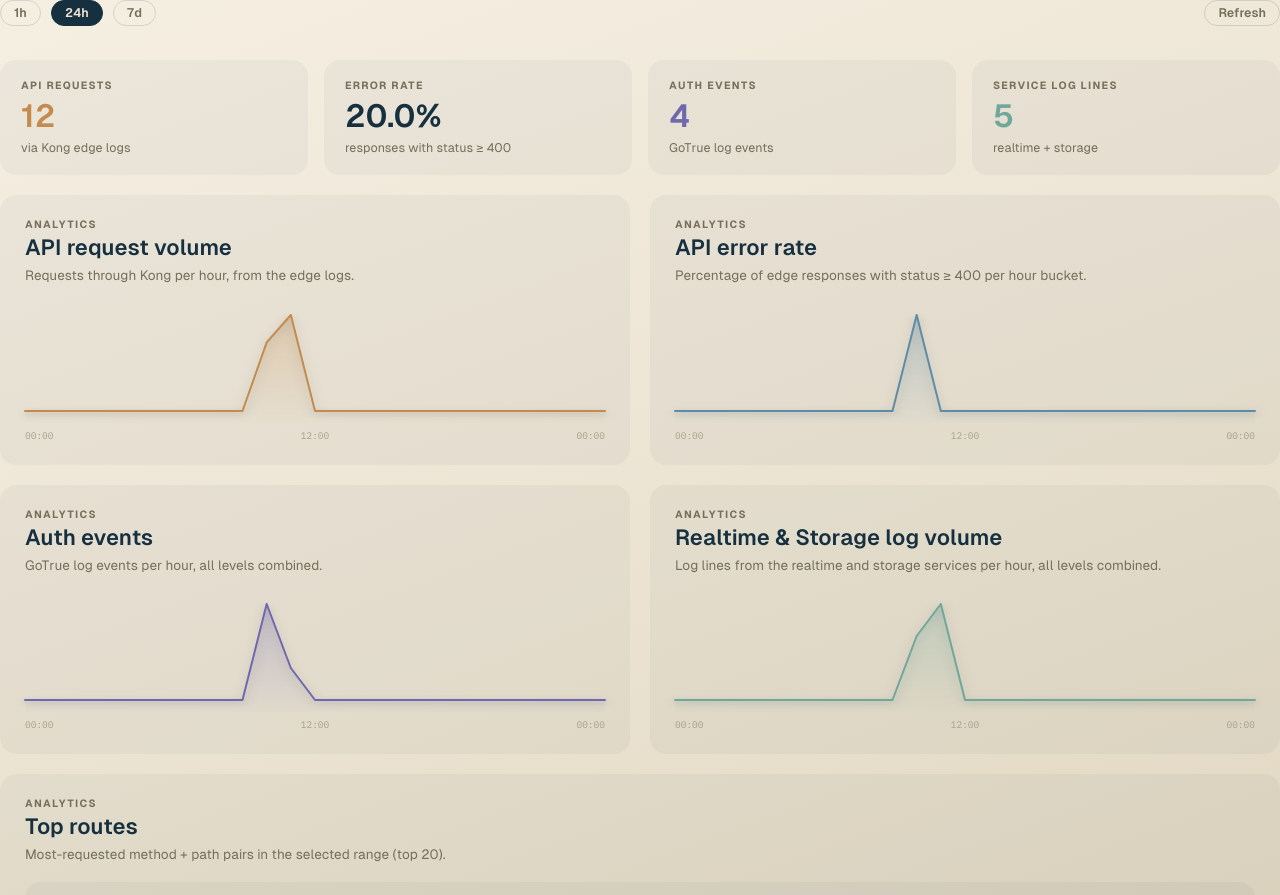
it: ReportsClient › switching the preset refetches all five canned metrics and re-renders
Click the button "7d".
click(134, 13)  # box [113,0,156,26]
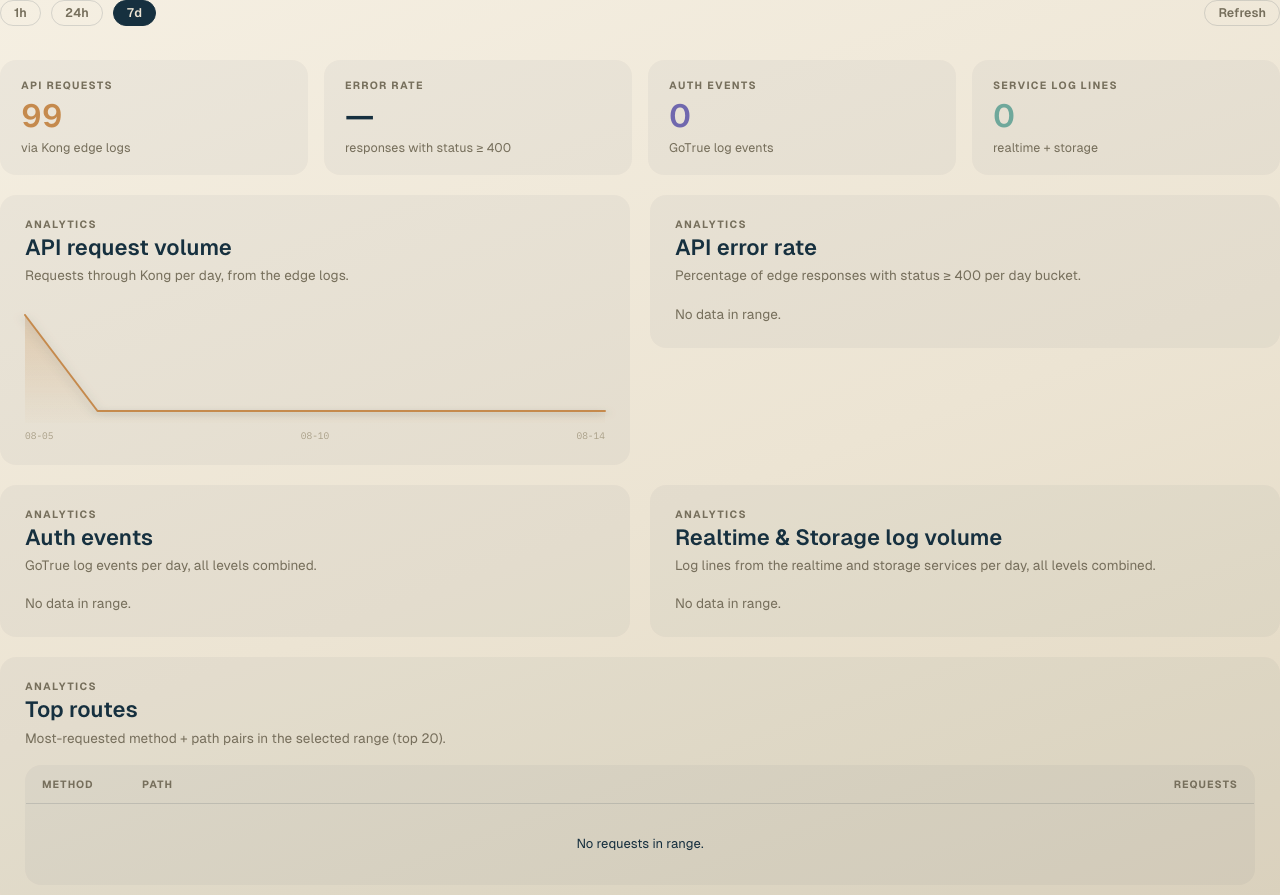
Now the text "99" is shown, box [21,98,63,134]
